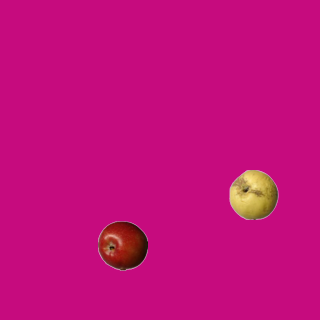Apple Braeburn: (97, 220, 147, 270)
Apple Golden 1: (228, 169, 278, 219)
